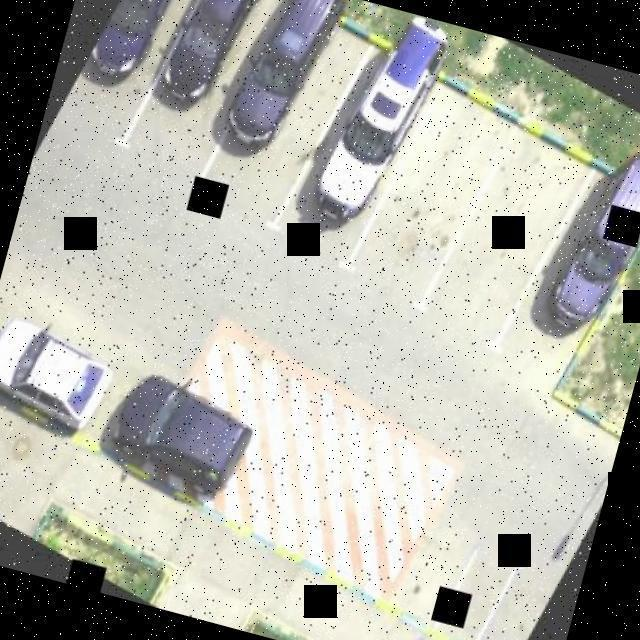car: (279, 0, 455, 253), (521, 142, 640, 355), (221, 0, 366, 171), (98, 367, 256, 500), (0, 294, 119, 444), (81, 0, 202, 98), (160, 0, 270, 96)
free: (362, 82, 504, 288), (442, 128, 580, 316), (391, 520, 469, 620), (489, 585, 548, 640)
